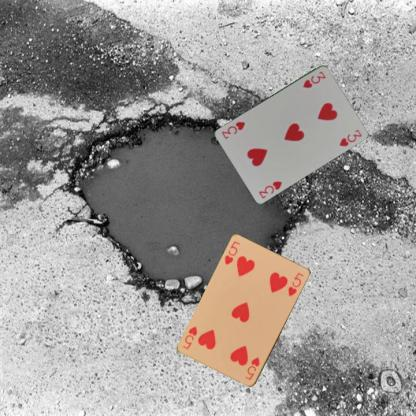3h: (300, 68, 327, 89), (256, 178, 283, 199)
5h: (222, 239, 241, 266), (243, 355, 261, 381)
